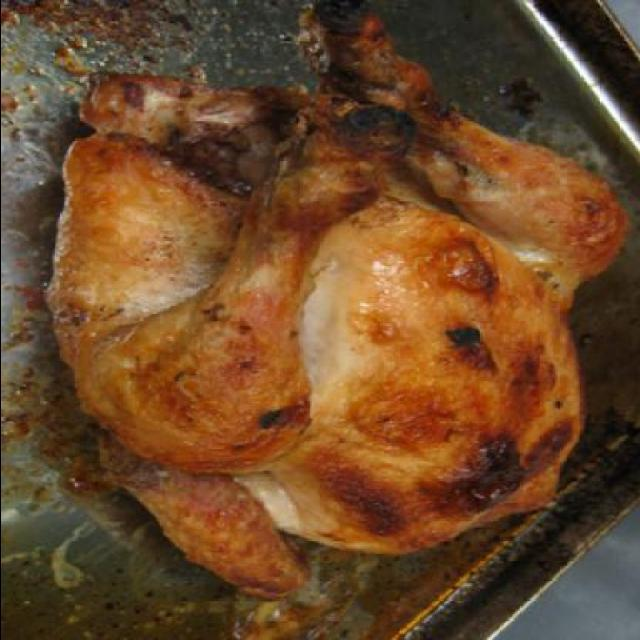Chicken roast: (50, 53, 624, 616)
